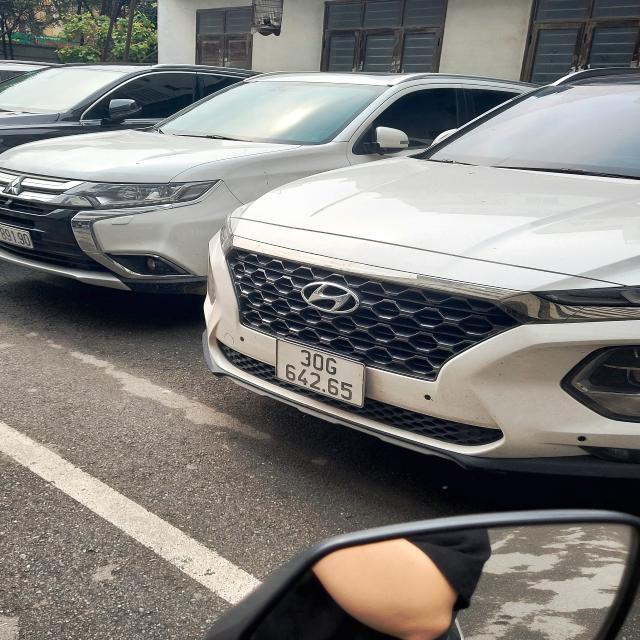license_plate: (276, 339, 366, 407)
